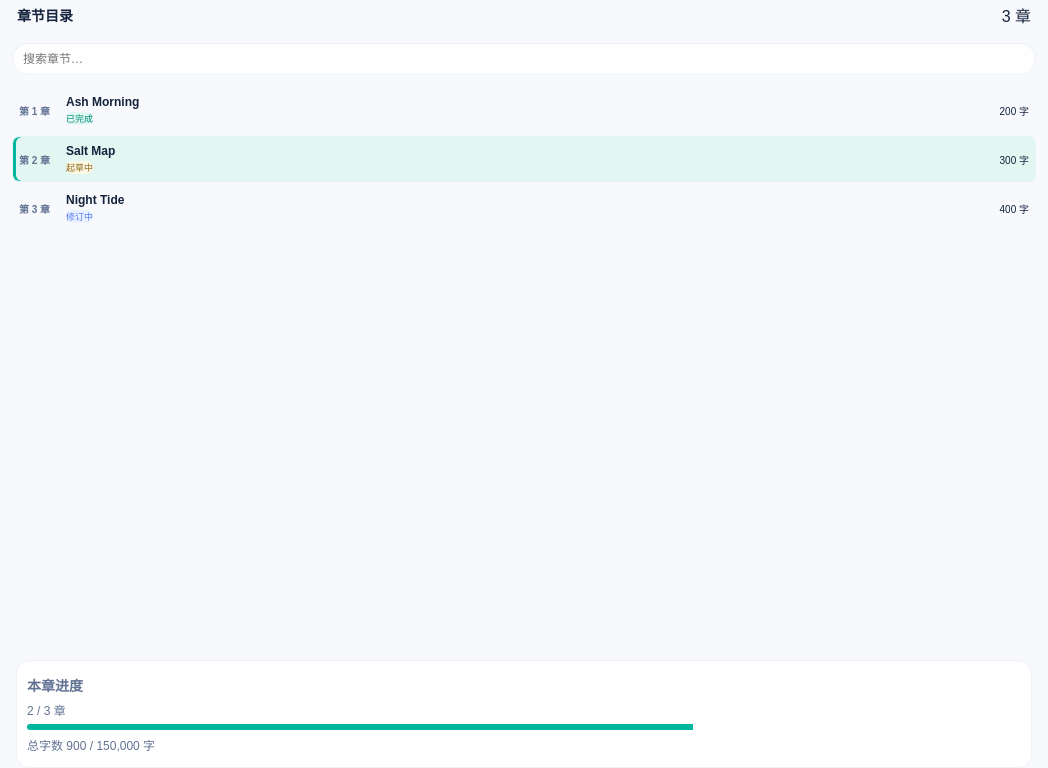
it: ChapterList › filters chapter rows by title and preserves pressed state
Expected: the text "3 章" is shown, [1002,3,1031,27]
Expected: the text "已完成" is shown, [66,112,93,125]
Type "night" into the search field labelled "搜索章节" at (524, 59), box [12,43,1036,75]
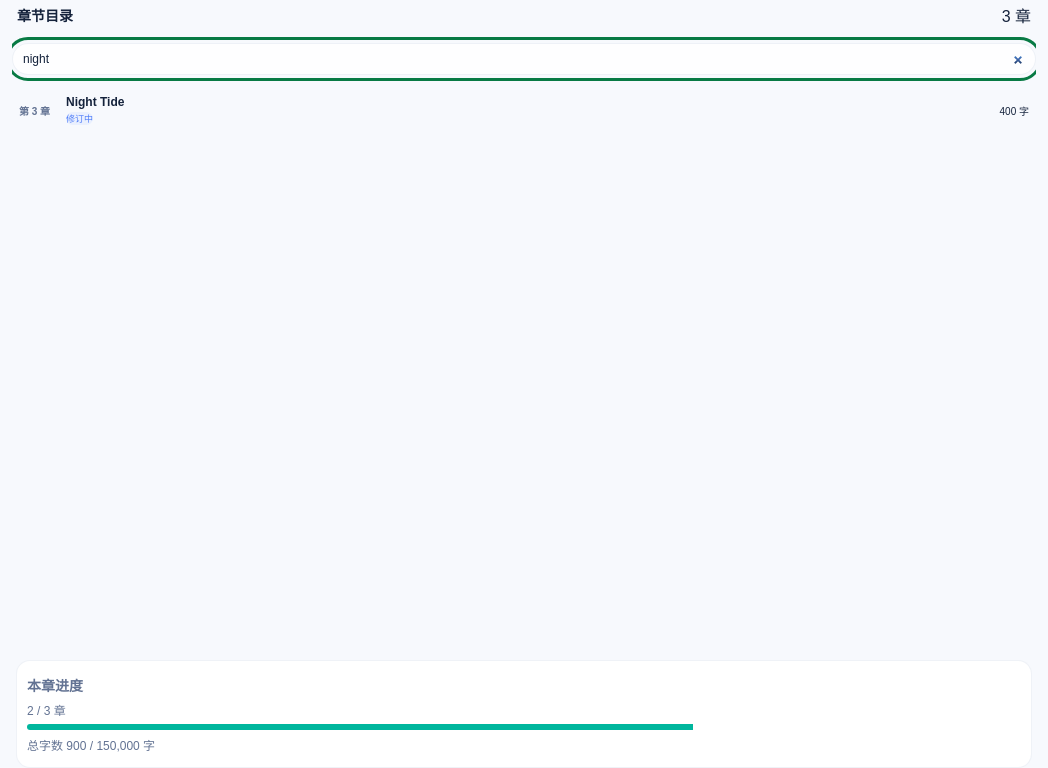
Expected: the button "第 3 章 Night Tide 400 字 修订中" is shown, [12,87,1036,133]
Now the button "Salt Map" is gone
